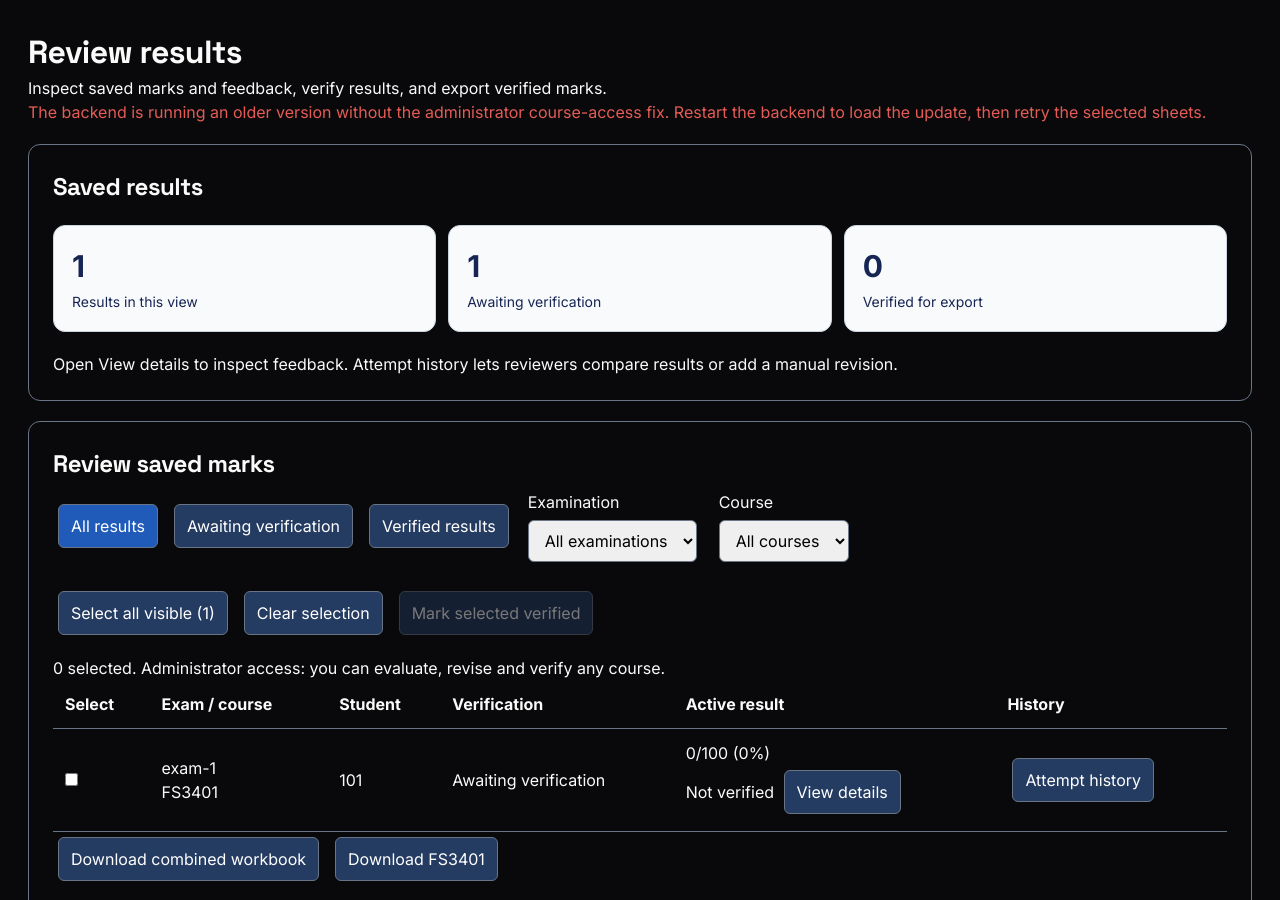
Test: delete controls explain each scope and block running work
expect the text "101" is shown: met, box [327, 728, 440, 832]
Click the checkbox named "Select 101". click: (72, 780)
box: [65, 773, 78, 786]
(page scrolled)
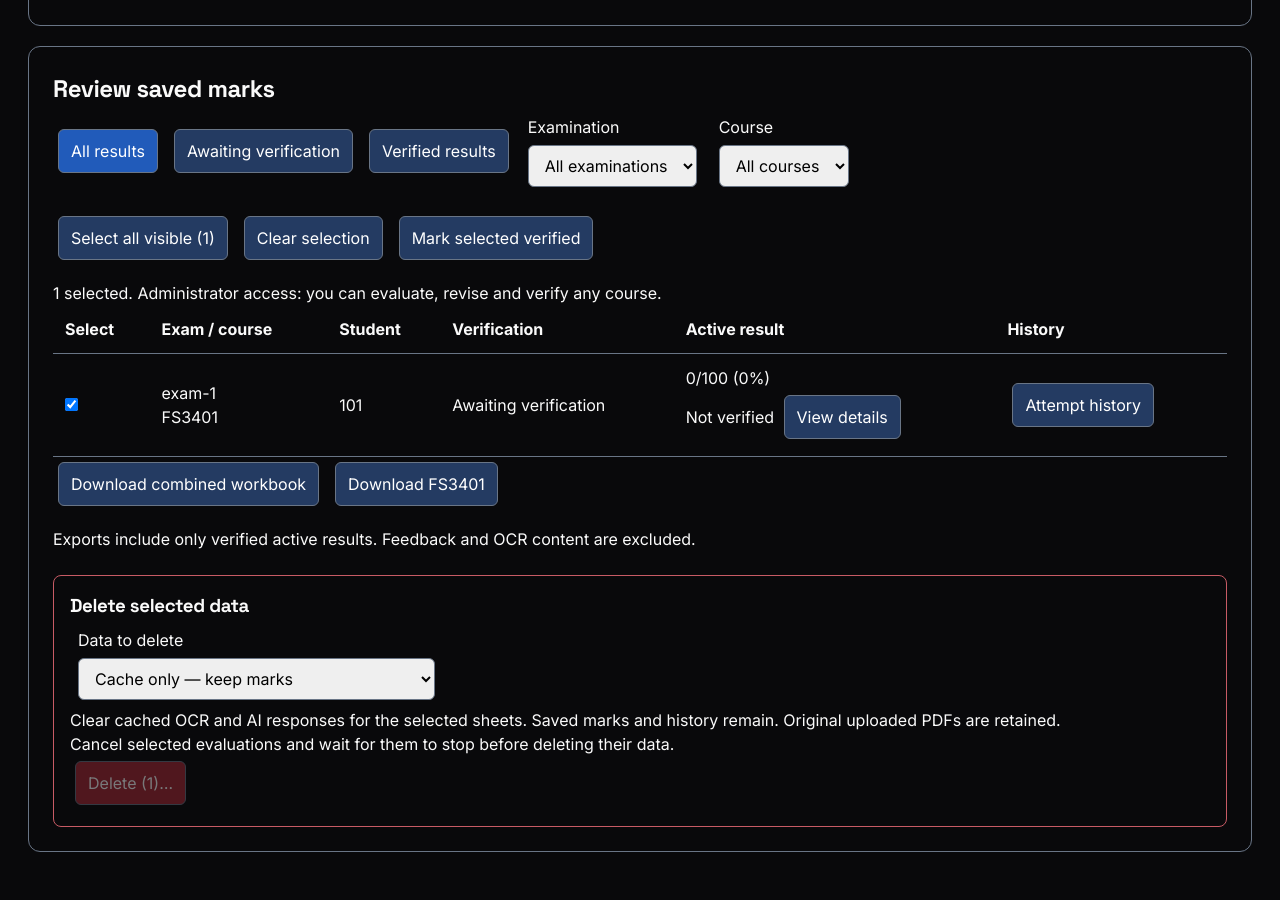
expect the button "Delete (1)…" is disabled: met, box [75, 761, 186, 805]
Select "Marks and attempt history — keep cache" in the dropdown labelled "Data to delete". click: (256, 679)
box: [78, 658, 435, 700]
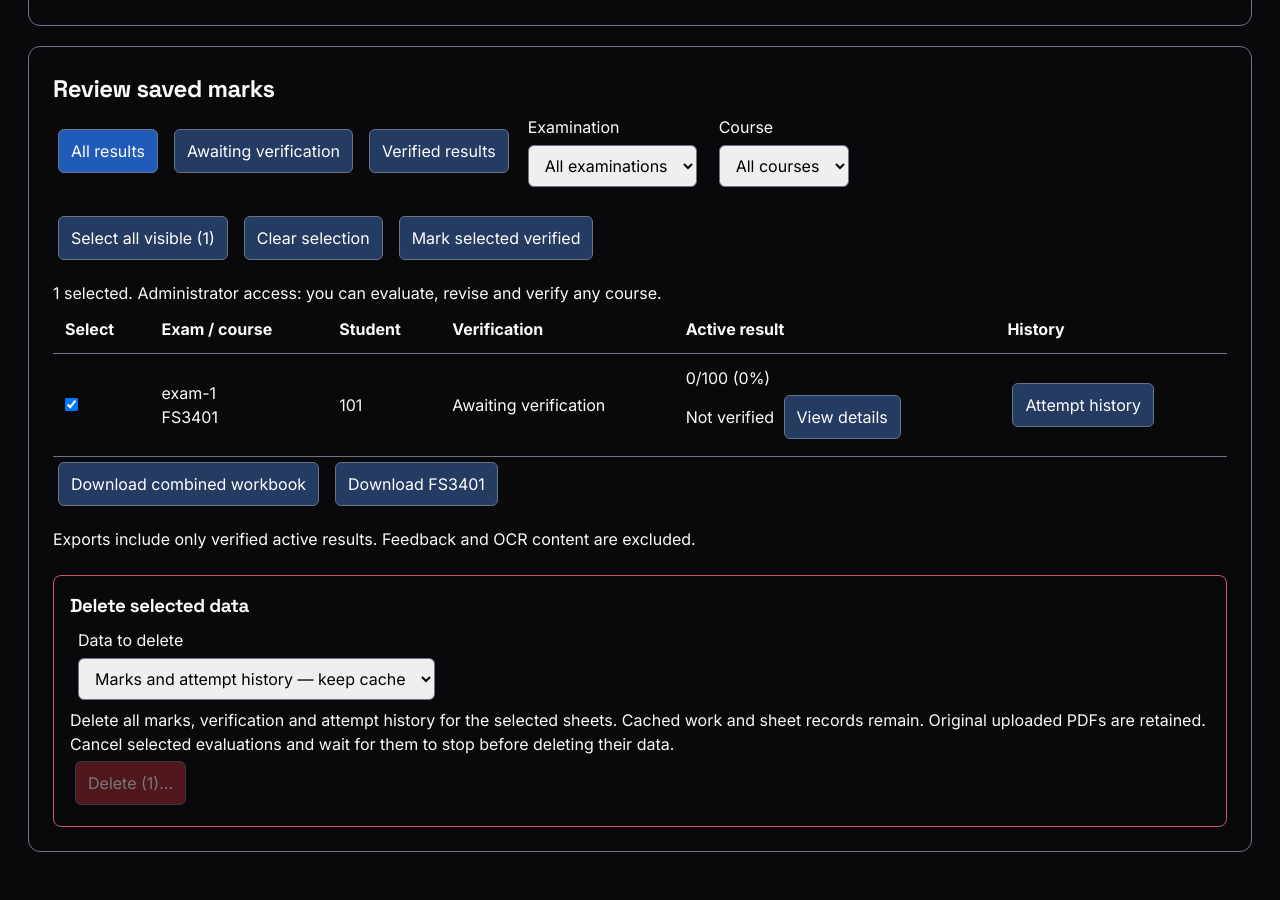
expect the text "Cancel selected evaluations and wait" is shown: met, box [70, 734, 674, 754]
expect the text "Delete all marks, verification and attempt history" is shown: met, box [70, 710, 924, 730]
